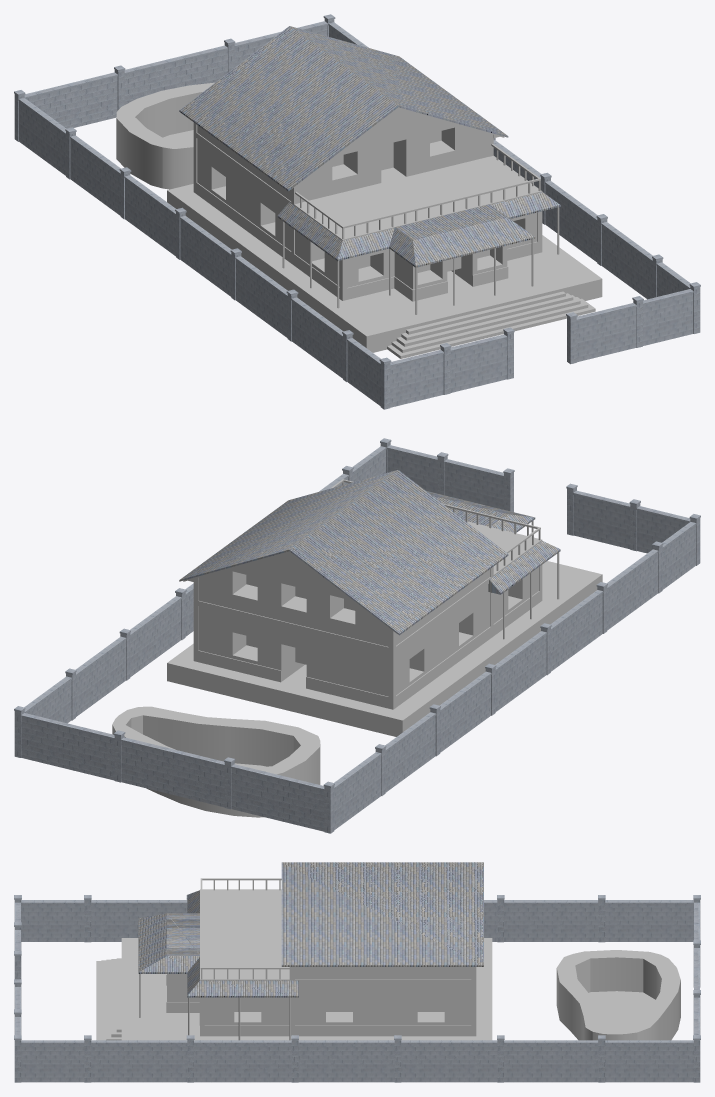
File: CasaCurso.fbx
3 views of the same model, one above another, from view 1: azimuth 30°, elevation 25°; view 2: azimuth 150°, elevation 25°; view 3: azimuth 270°, elevation 25° (orthographic). The views are drawn at different scales.
Parts seen in each view (by area): view 1: pCube11, pCube19, pCube70, polySurface13, pCube84, pCube114, pCube72, pCube4, pCube71, pCube73, pCube74, pCube7 (+14 smaller); view 2: pCube11, polySurface13, pCube70, pCube19, pCube72, pCube114, pCube71, pCube73, pCube74, pCube110, pCube84, pCube113 (+6 smaller); view 3: pCube71, pCube11, pCube70, pCube114, polySurface13, pCube84, pCube19, pCube4, pCube1, pCube79, pCube7, polySurface17 (+9 smaller).
Part boxes in pixels (<box>): pCube11: <box>179,26,508,191</box>; pCube19: <box>167,184,602,352</box>; pCube70: <box>19,101,380,405</box>; polySurface13: <box>197,108,488,250</box>; pCube84: <box>193,131,542,240</box>; pCube114: <box>116,82,214,189</box>; pCube72: <box>26,25,327,128</box>; pCube4: <box>389,204,535,267</box>; pCube71: <box>329,26,688,299</box>; pCube73: <box>390,338,507,407</box>; pCube74: <box>576,293,693,362</box>; pCube7: <box>277,192,560,261</box>; pCube11: <box>179,470,508,635</box>; polySurface13: <box>198,552,490,696</box>; pCube70: <box>334,525,695,829</box>; pCube19: <box>167,561,602,736</box>; pCube72: <box>21,717,324,831</box>; pCube114: <box>112,706,320,817</box>; pCube71: <box>26,450,385,723</box>; pCube73: <box>573,495,688,553</box>; pCube74: <box>387,449,503,509</box>; pCube110: <box>306,589,542,709</box>; pCube84: <box>198,521,542,652</box>; pCube113: <box>334,522,696,789</box>; pCube71: <box>21,1044,693,1082</box>; pCube11: <box>281,862,483,966</box>; pCube70: <box>21,904,693,941</box>; pCube114: <box>556,950,680,1040</box>; polySurface13: <box>295,967,471,1025</box>; pCube84: <box>200,889,476,984</box>; pCube19: <box>121,938,492,1040</box>; pCube4: <box>138,913,199,973</box>; pCube1: <box>200,1025,476,1036</box>; pCube79: <box>21,1040,693,1044</box>; pCube7: <box>187,890,298,997</box>; polySurface17: <box>204,997,289,1025</box>.
Bounding box in the file's own units: 202 × 108 × 408.
